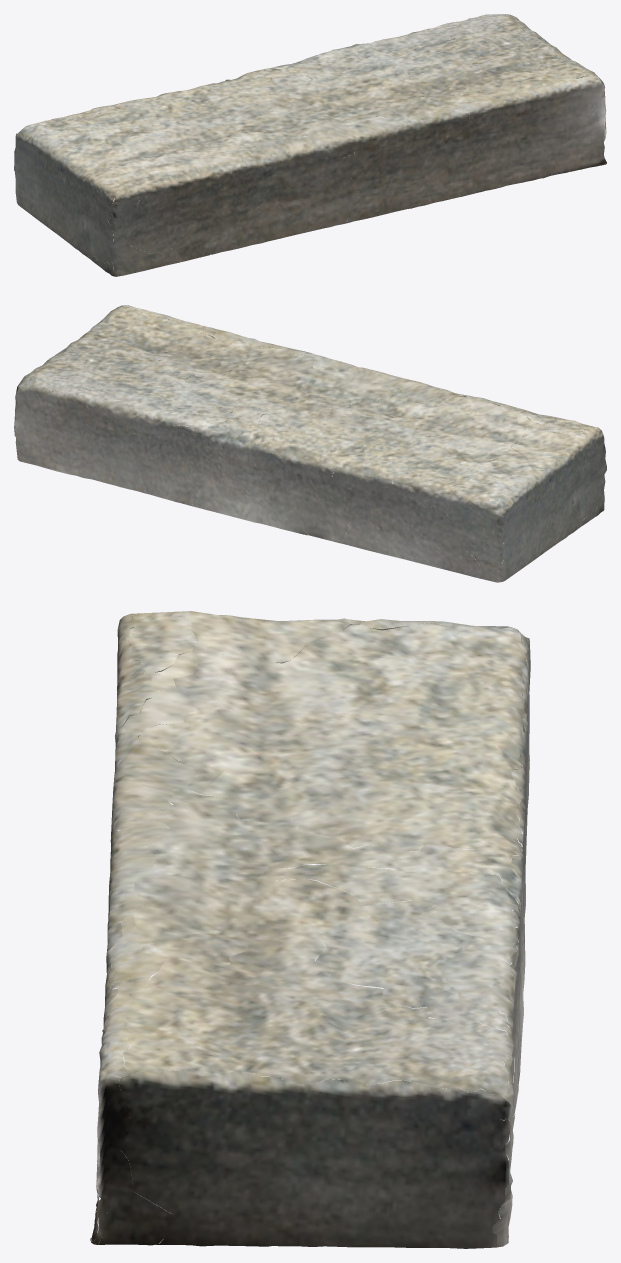
Rendered from Stepping_stones_1.glb.
3 views of the same model, one above another, from view 1: azimuth 30°, elevation 25°; view 2: azimuth 150°, elevation 25°; view 3: azimuth 270°, elevation 25° (orthographic). The views are drawn at different scales.
Visible parts, largest first — view 1: Object_2.003; view 2: Object_2.003; view 3: Object_2.003.
Boxes of the visible parts, left/top/right/bottom form: Object_2.003: left=14, top=14, right=606, bottom=276; Object_2.003: left=14, top=305, right=606, bottom=582; Object_2.003: left=90, top=611, right=530, bottom=1248.
Bounding box in the file's own units: 1.48 × 0.2453 × 0.5728.
1 material, 1 textured.
